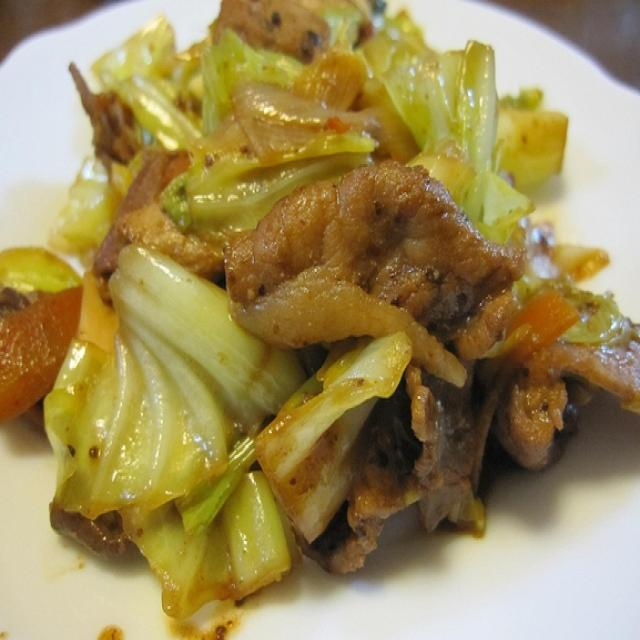猪肉菜式: (36, 14, 624, 602)
